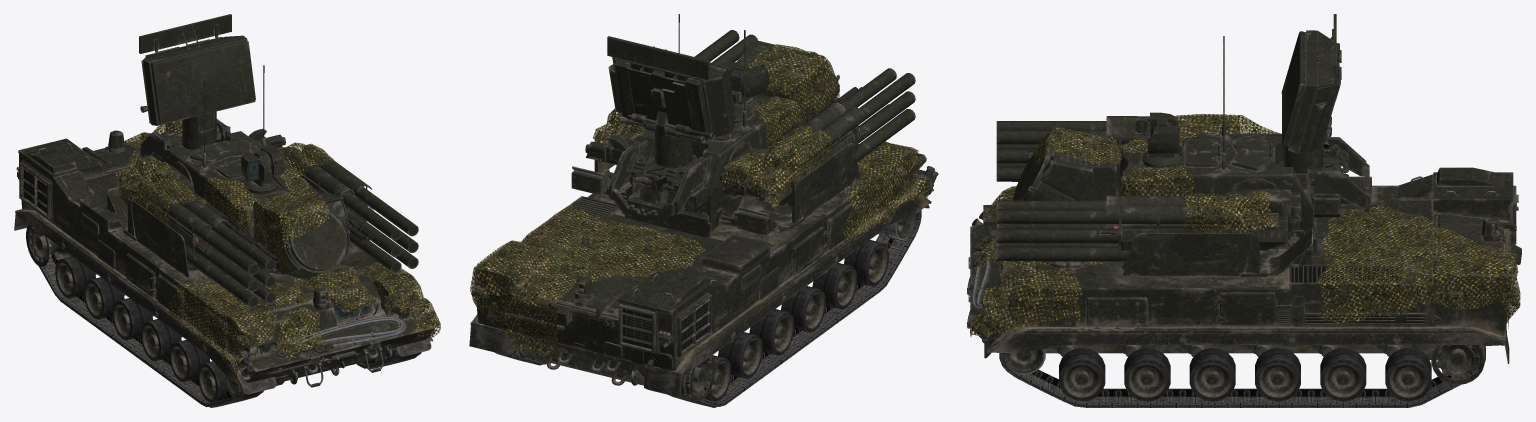
The model's file is pantsir.glb.
3 renders of one model, left to right at view 1: azimuth 30°, elevation 25°; view 2: azimuth 150°, elevation 25°; view 3: azimuth 270°, elevation 25°, orthographic. The views are drawn at different scales.
Parts seen in each view (by area): view 1: Object_4, Object_2, Object_7, Object_3, Object_5, Object_6; view 2: Object_4, Object_2, Object_7, Object_3, Object_5, Object_6; view 3: Object_4, Object_2, Object_7, Object_3, Object_5, Object_6.
Boxes of the visible parts, <box> form: Object_4: <box>15,120,439,387</box>; Object_2: <box>107,14,417,402</box>; Object_7: <box>115,120,440,378</box>; Object_3: <box>26,80,418,385</box>; Object_5: <box>14,186,431,394</box>; Object_6: <box>29,227,421,407</box>; Object_4: <box>470,142,938,385</box>; Object_2: <box>484,14,914,359</box>; Object_7: <box>470,44,929,356</box>; Object_3: <box>585,30,929,401</box>; Object_5: <box>469,87,929,397</box>; Object_6: <box>486,210,921,407</box>; Object_4: <box>967,167,1521,359</box>; Object_2: <box>1005,14,1484,401</box>; Object_7: <box>969,114,1520,336</box>; Object_3: <box>996,36,1301,261</box>; Object_5: <box>984,147,1509,363</box>; Object_6: <box>999,333,1485,407</box>.
Size of the model in its own units: 5.15 by 6.97 by 11.
Materials: 3 (3 with a texture image).
